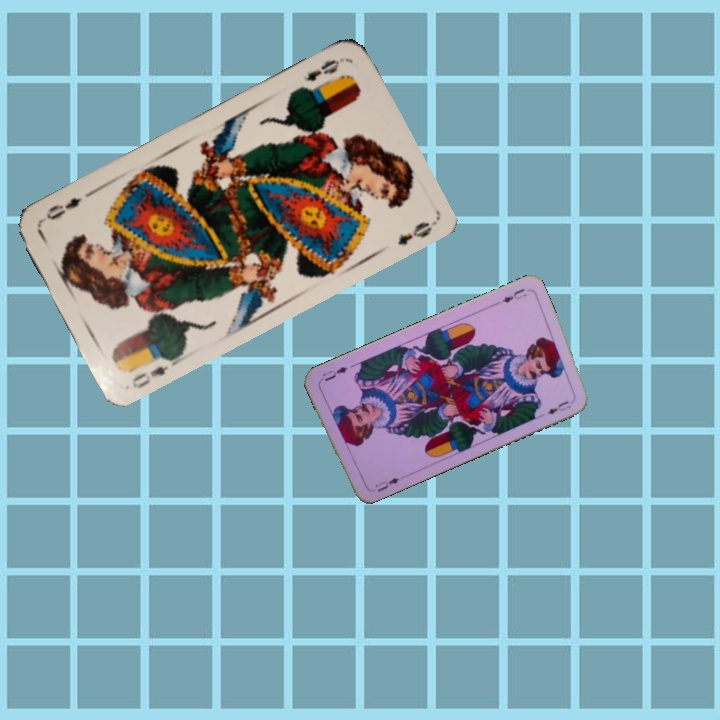EO: (127, 351, 179, 392), (294, 54, 346, 92)
EU: (371, 473, 401, 495), (498, 284, 529, 305)
